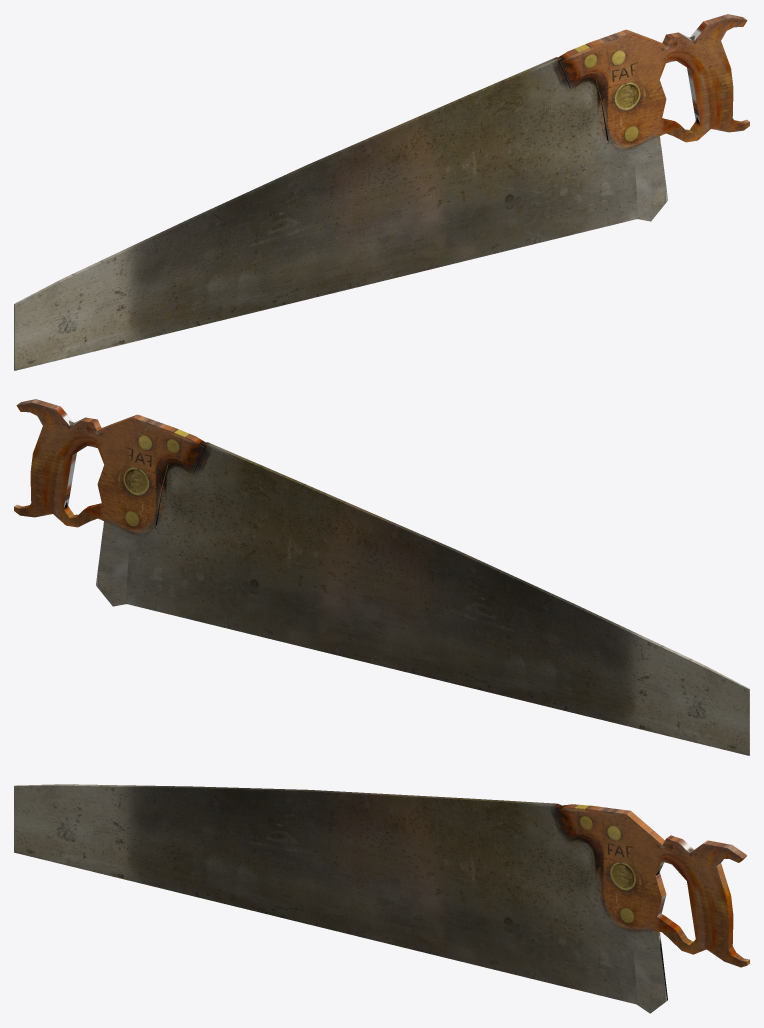
The model's file is saw.dae.
The picture shows the model from 3 angles, top to bottom: view 1: azimuth 30°, elevation 25°; view 2: azimuth 150°, elevation 25°; view 3: azimuth 330°, elevation 25°; orthographic projection.
Visible parts, largest first — view 1: Cube; view 2: Cube; view 3: Cube.
Part boxes in pixels (left/top/right/bottom): Cube: left=14, top=14, right=749, bottom=370; Cube: left=14, top=399, right=749, bottom=755; Cube: left=14, top=784, right=749, bottom=1013.
Size of the model in its own units: 9.13 by 0.0976 by 2.32.
1 material, 1 textured.
